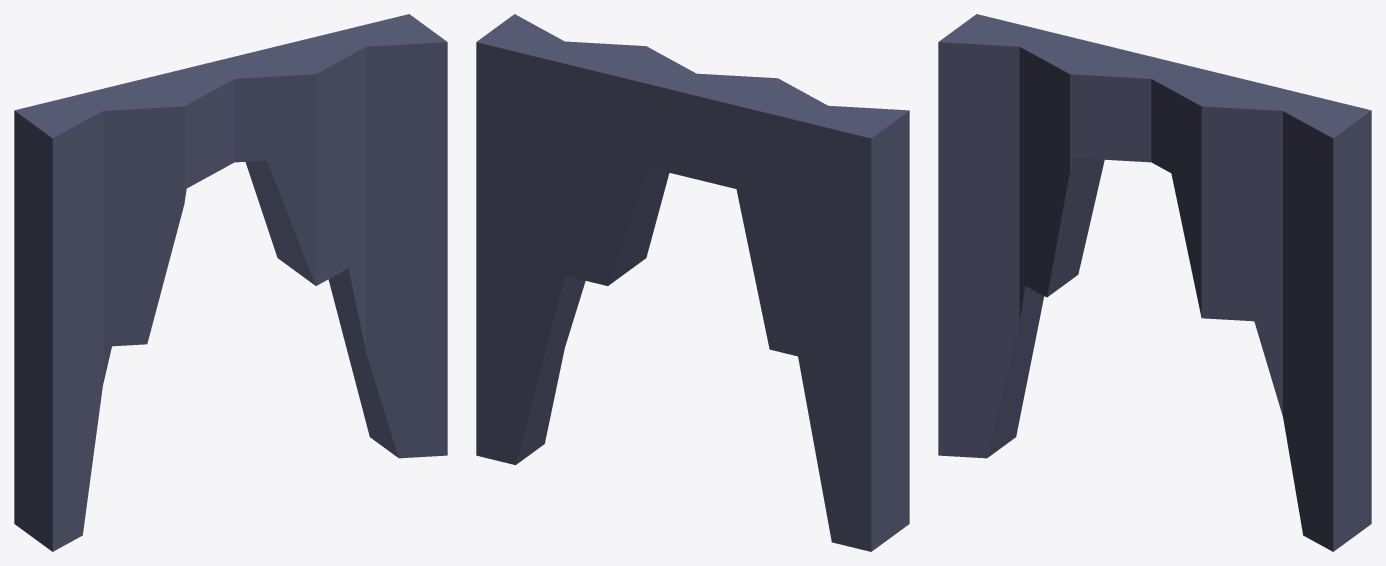
Rendered from kenney_nature-kit__cliff_cave_rock__cave.fbx.
3 views of the same model, side by side, from view 1: azimuth 30°, elevation 25°; view 2: azimuth 150°, elevation 25°; view 3: azimuth 330°, elevation 25° (orthographic).
Parts seen in each view (by area): view 1: kenney_nature-kit__cliff_cave_rock__cave_stone; view 2: kenney_nature-kit__cliff_cave_rock__cave_stone; view 3: kenney_nature-kit__cliff_cave_rock__cave_stone.
Boxes of the visible parts, bbox=[...] form: kenney_nature-kit__cliff_cave_rock__cave_stone: bbox=[14, 14, 447, 551]; kenney_nature-kit__cliff_cave_rock__cave_stone: bbox=[476, 14, 909, 551]; kenney_nature-kit__cliff_cave_rock__cave_stone: bbox=[938, 14, 1371, 551].
Size of the model in its own units: 3.57 by 3.57 by 0.6018.
Materials: 1 (1 with a texture image).
